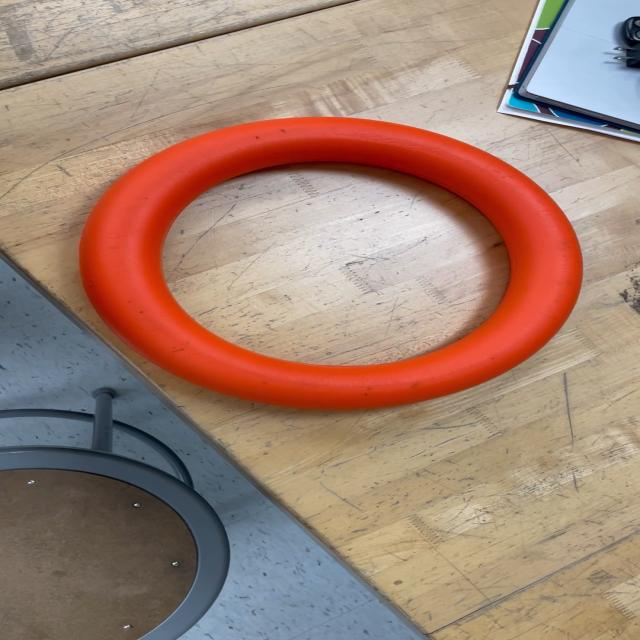note: (74, 116, 585, 411)
